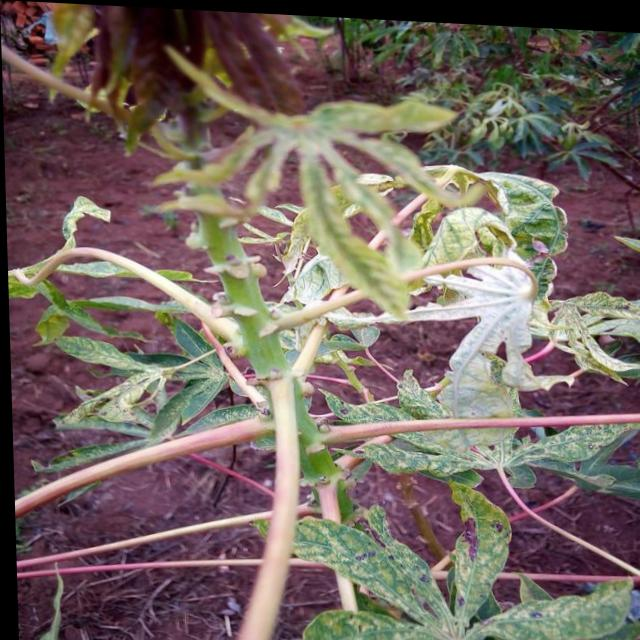Mosaico: (155, 53, 494, 296), (320, 352, 640, 584), (276, 495, 640, 640), (448, 183, 640, 441), (25, 246, 224, 445)
